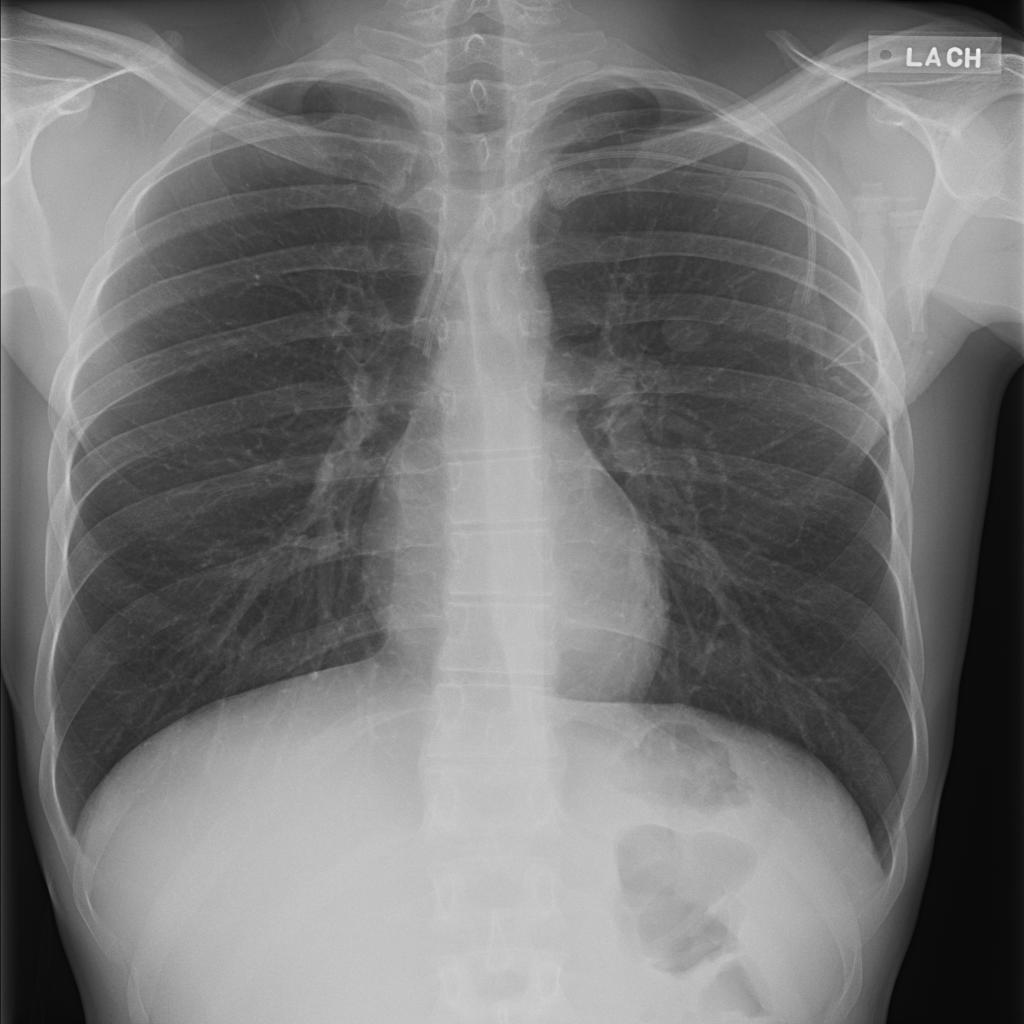Nodule: (388, 157, 427, 184)
